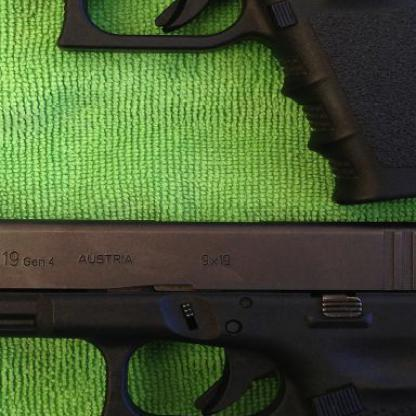gun: (0, 198, 415, 415), (0, 0, 415, 207)
